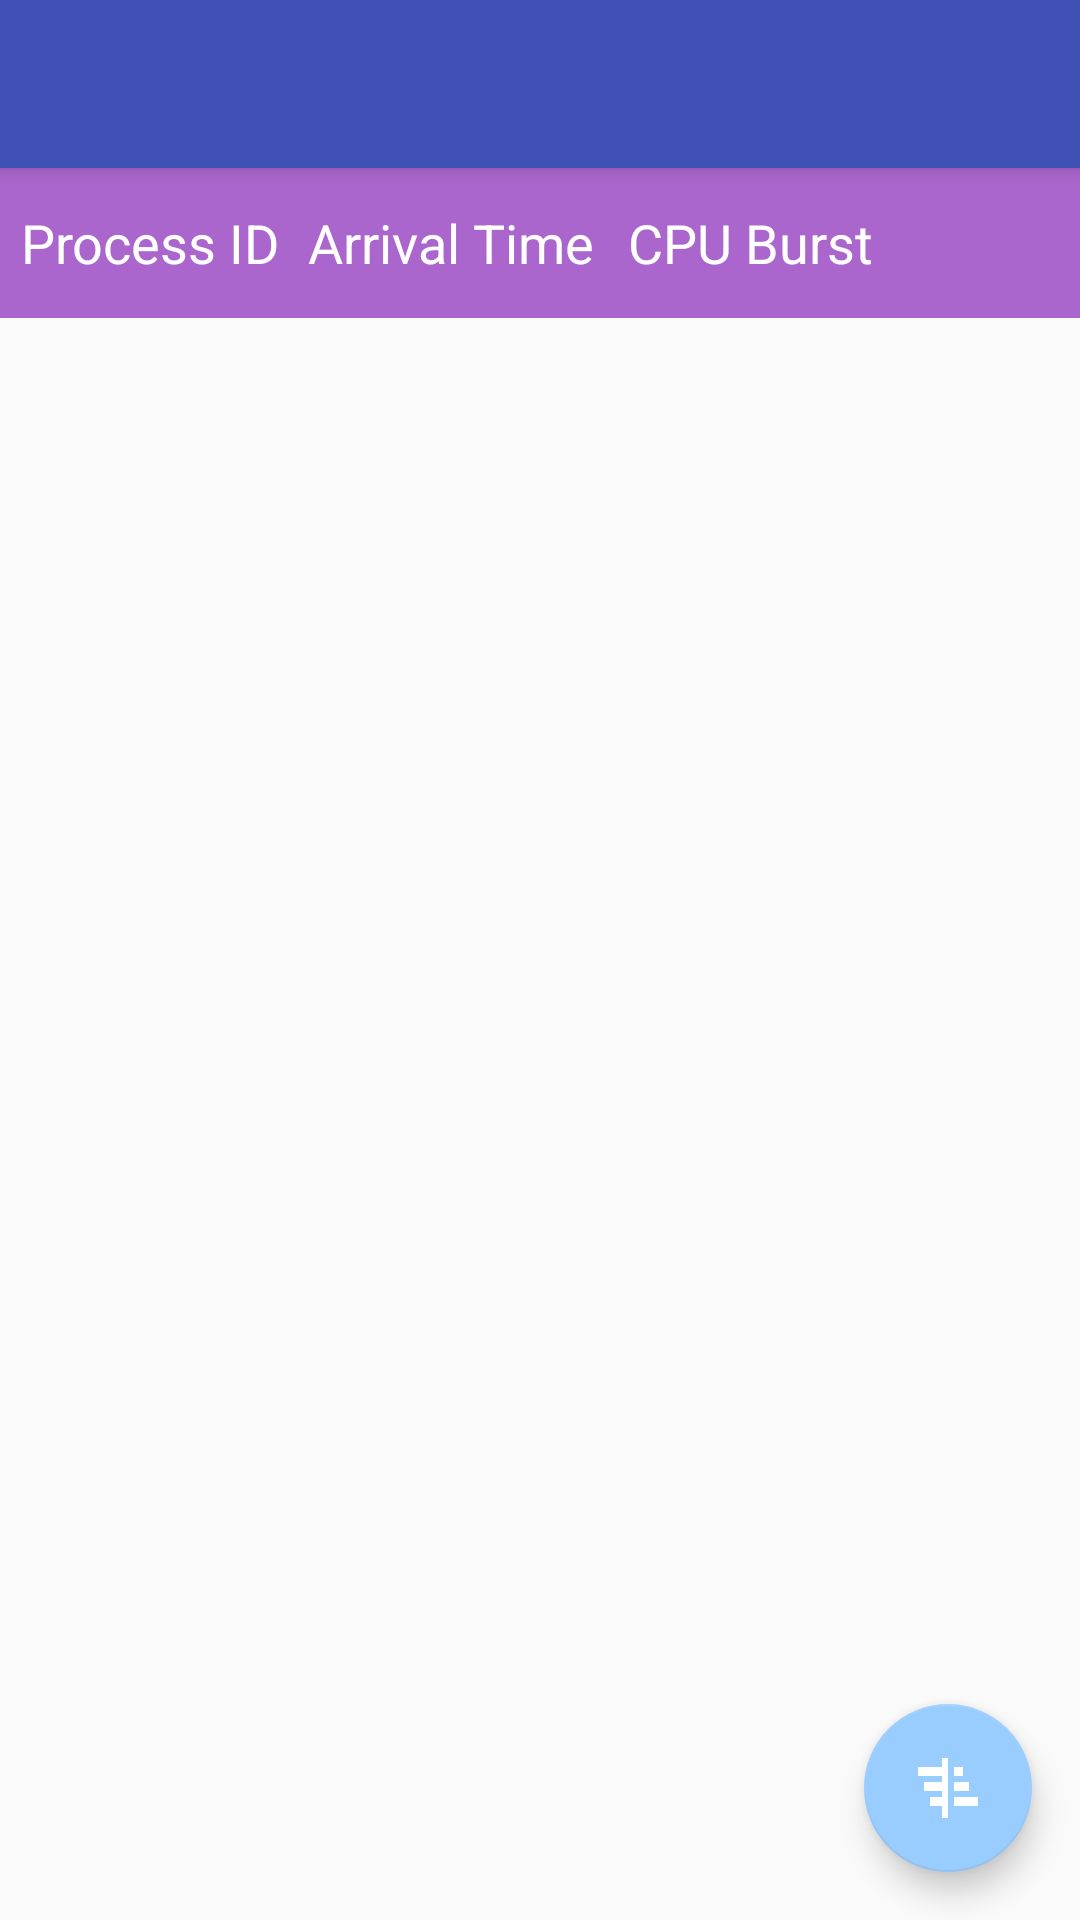

Screen size 1080 x 1920. Icon name, then its box in pixels as detection(x1, y1, x2, y2):
gantt: detection(864, 1704, 1032, 1872)
